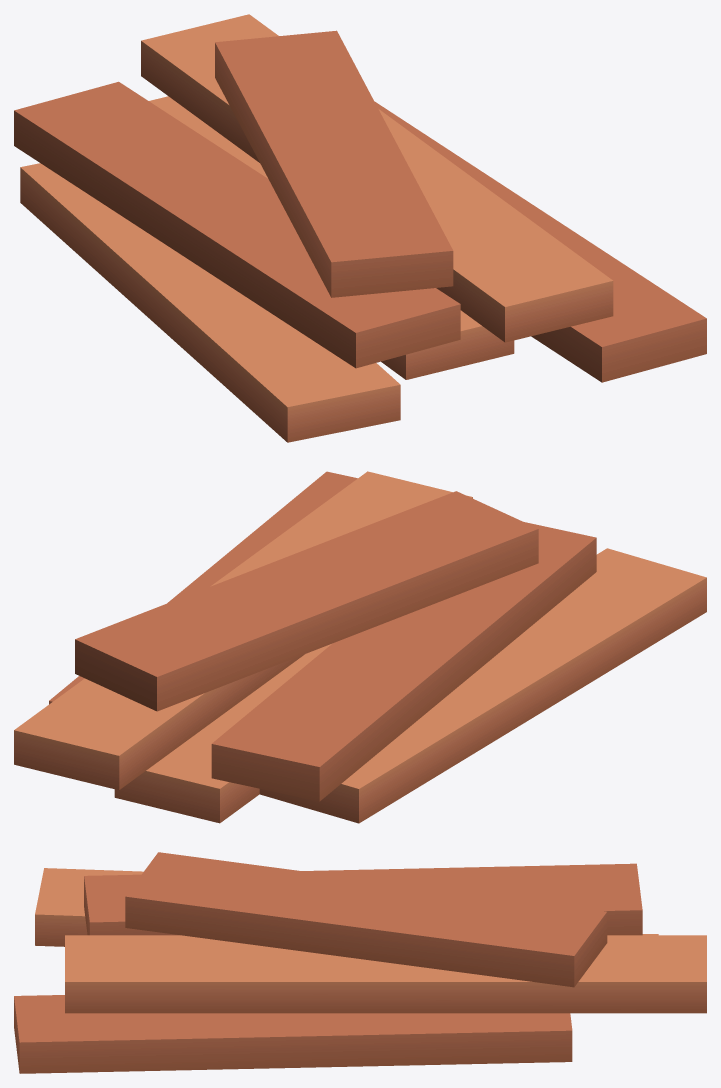
File: k-survival-resource-planks.glb
3 views of the same model, one above another, from view 1: azimuth 30°, elevation 25°; view 2: azimuth 150°, elevation 25°; view 3: azimuth 270°, elevation 25° (orthographic). The views are drawn at different scales.
Parts seen in each view (by area): view 1: resource-planks; view 2: resource-planks; view 3: resource-planks.
Boxes of the visible parts, x1,y1,x2,y2 form: resource-planks: [14, 14, 706, 442]; resource-planks: [14, 471, 706, 823]; resource-planks: [14, 852, 706, 1073].
Bounding box in the file's own units: 0.3729 × 0.0936 × 0.626.
Materials: 1 (1 with a texture image).
